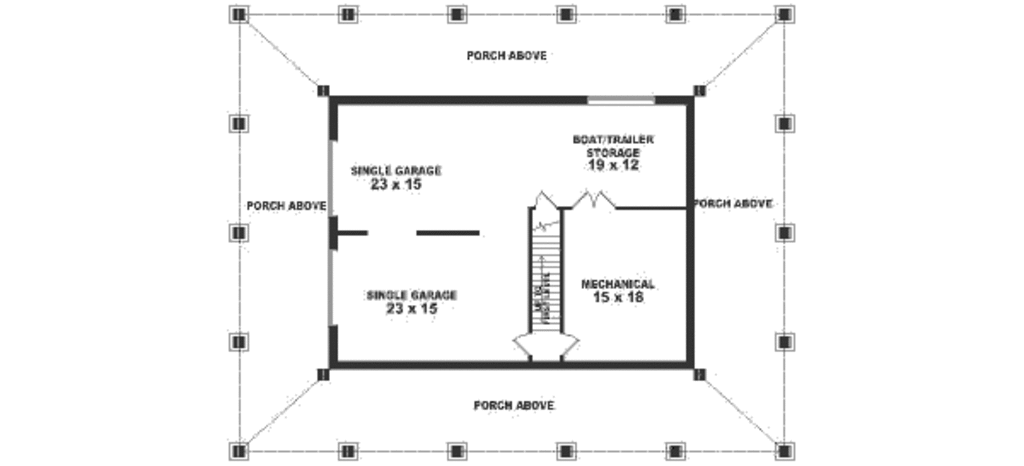door: (570, 188, 616, 210)
stairs: (527, 203, 565, 330)
windows: (584, 92, 663, 112)
